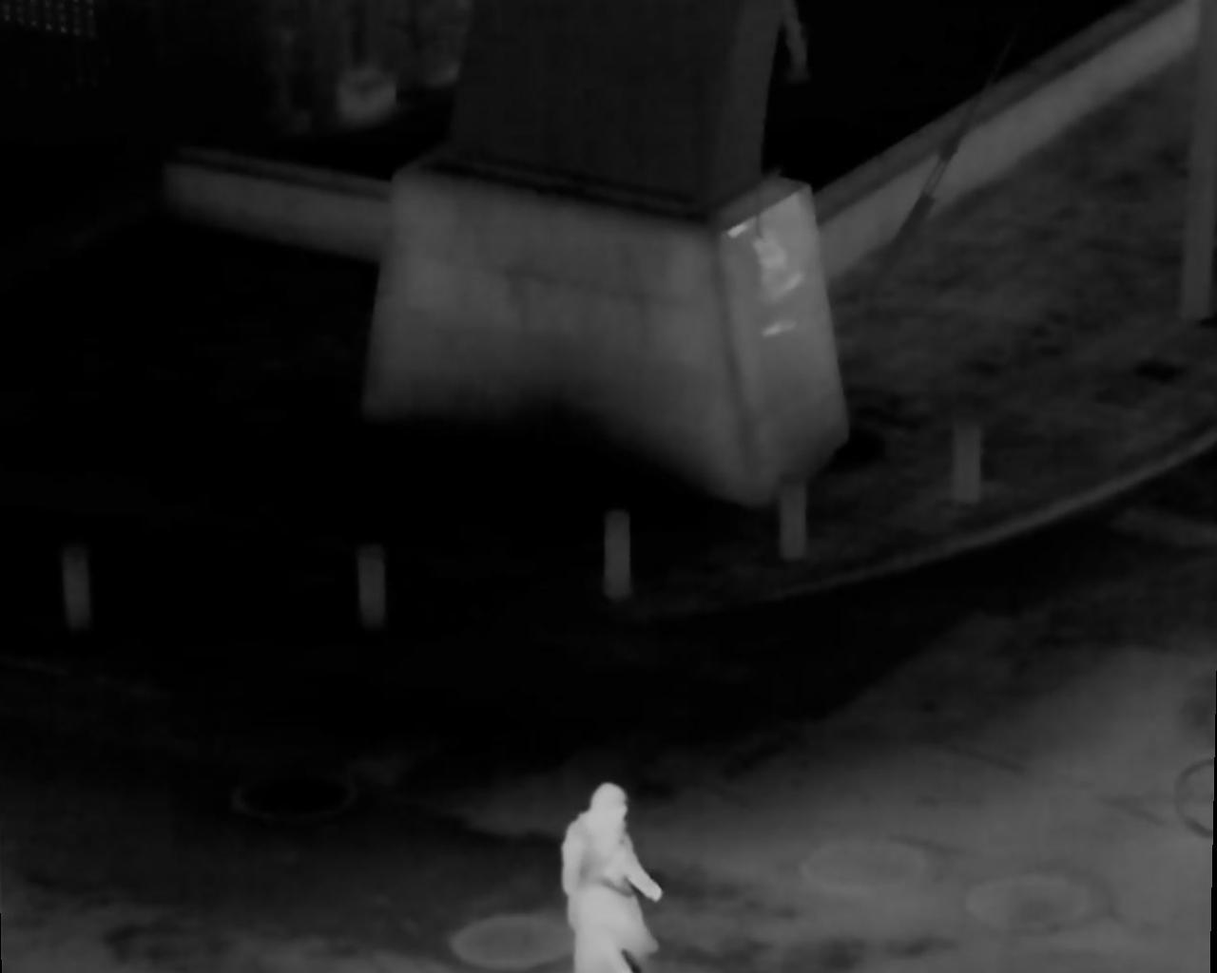person: (562, 837, 656, 973), (560, 779, 656, 911)
